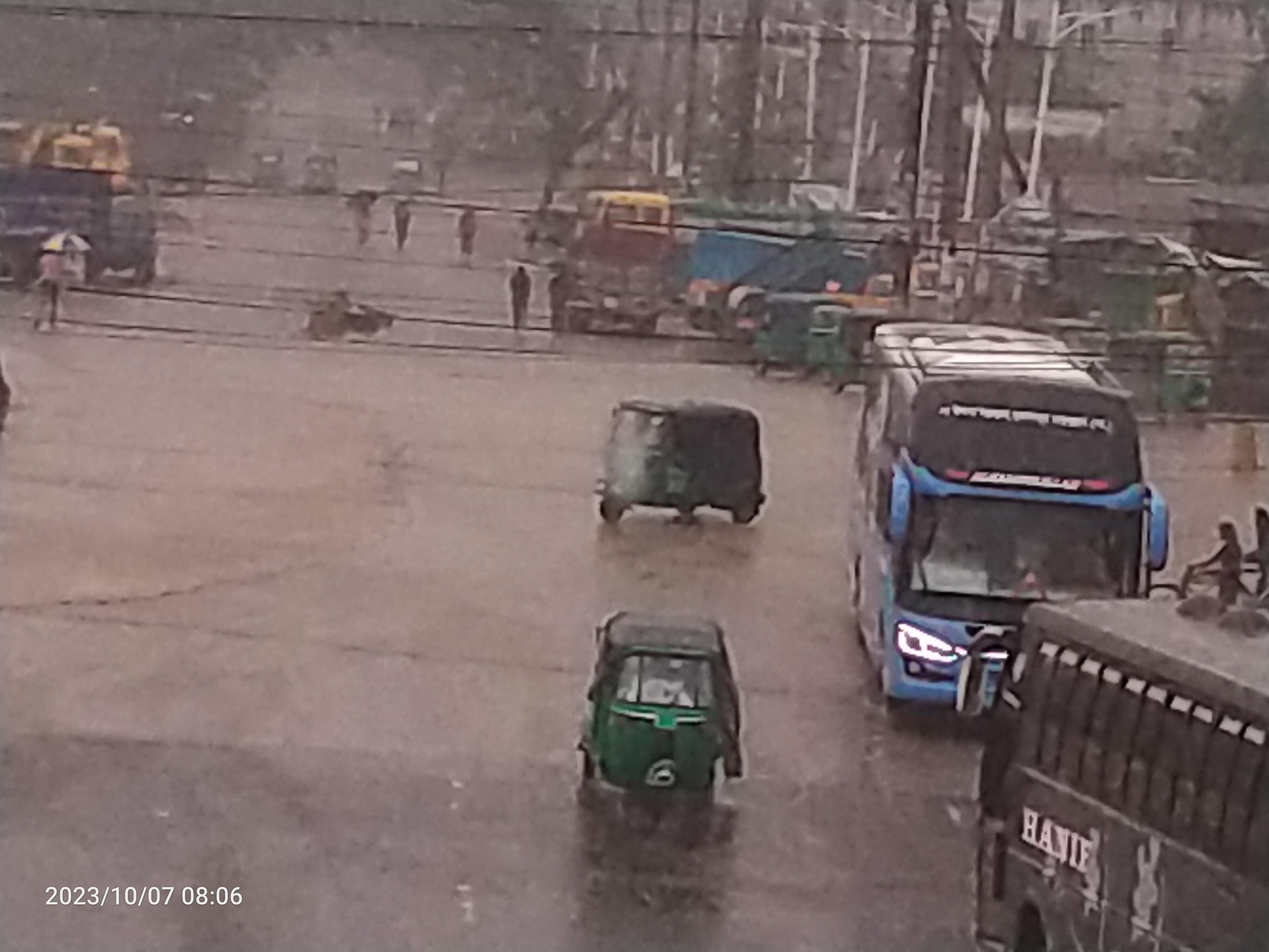Bus: (835, 288, 1134, 721), (958, 560, 1269, 952)
Car: (1168, 500, 1269, 622)
Truck: (529, 208, 698, 361)
